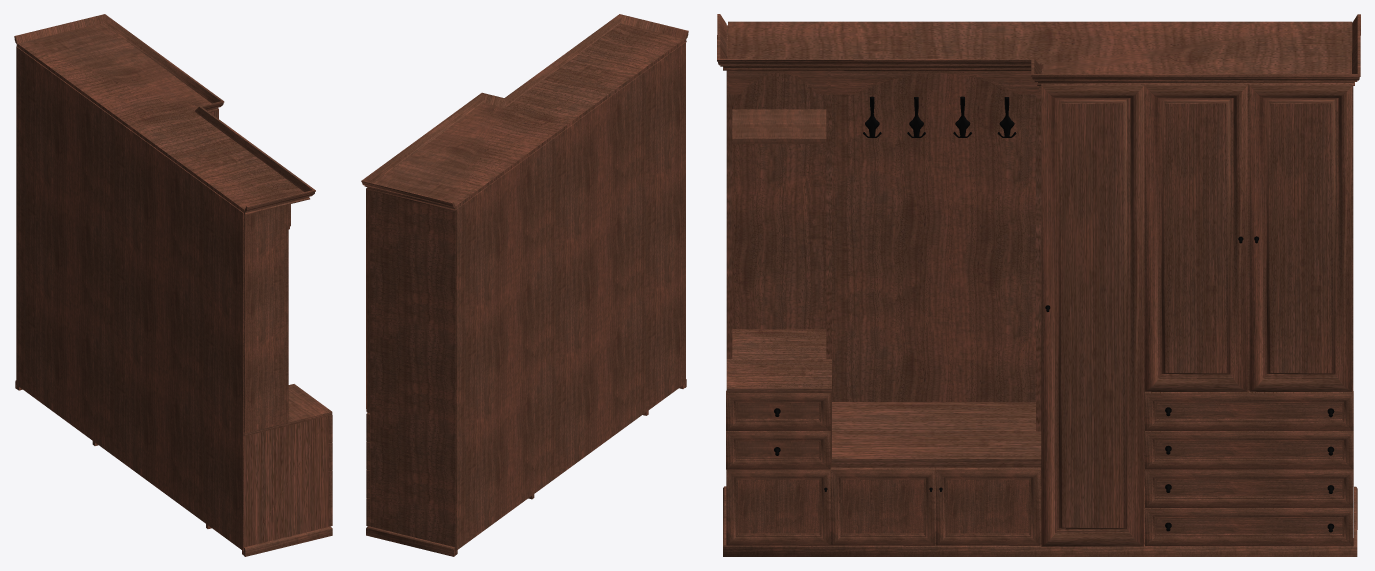
Rendered from garderobe_ein_teil.fbx.
The picture shows the model from 3 angles, left to right: view 1: azimuth 30°, elevation 25°; view 2: azimuth 150°, elevation 25°; view 3: azimuth 270°, elevation 25°; orthographic projection. The views are drawn at different scales.
Parts seen in each view (by area): view 1: Rectangle038; view 2: Rectangle038; view 3: Rectangle038.
Part boxes in pixels (x1,y1,x2,y2): Rectangle038: (14, 14, 332, 556); Rectangle038: (361, 14, 688, 556); Rectangle038: (717, 14, 1360, 556).
Bounding box in the file's own units: 0.6616 × 2.3 × 2.77.
Materials: 3 (2 with a texture image).
